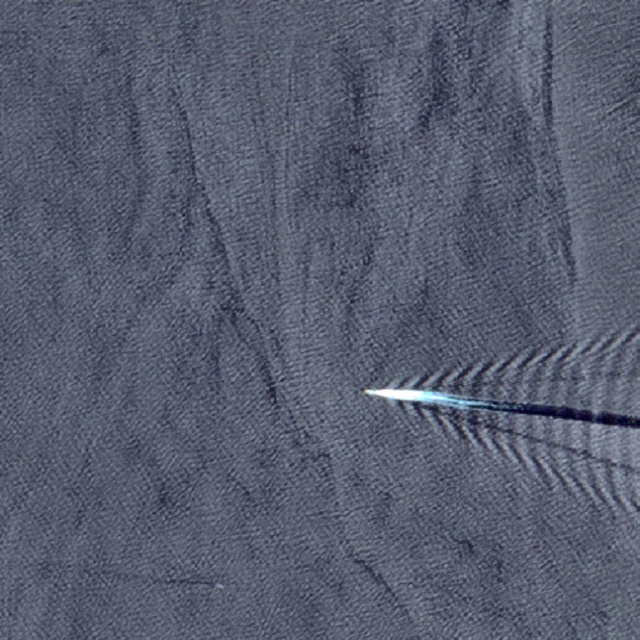wake: (357, 332, 578, 472)
